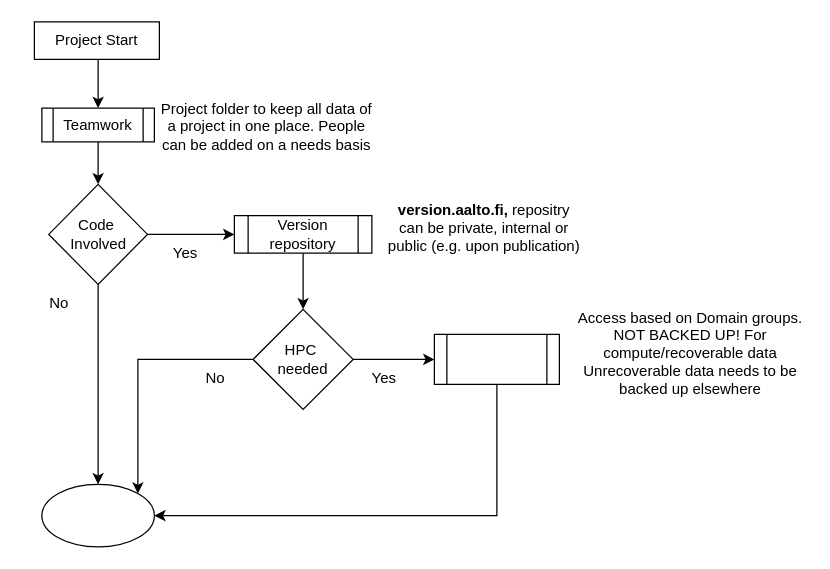
Some shapes in this 830 by 569 pixel diagram are drawn without their labels. The centre of each missing label's shape, as x and y in pixels:
"Data storage set up" goes at [97,515].
"Triton project folder" goes at [496,358].
